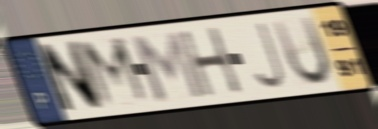H: (176, 24, 246, 100)
J: (250, 20, 288, 92)
M: (126, 28, 208, 104), (75, 34, 155, 111)
N: (34, 38, 107, 117)
U: (269, 13, 334, 89)
